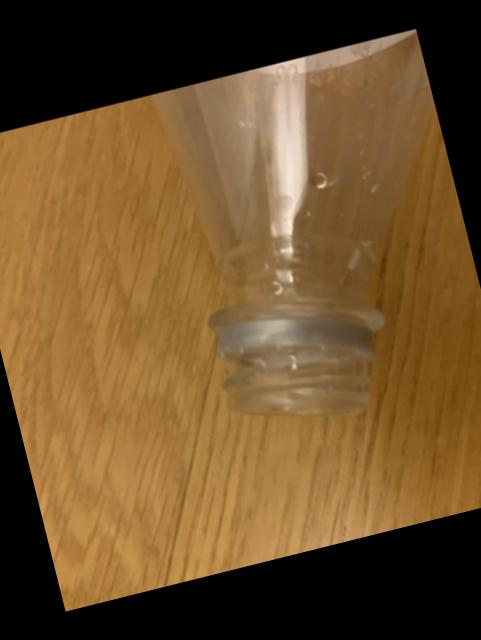plastic: (153, 31, 432, 416)
